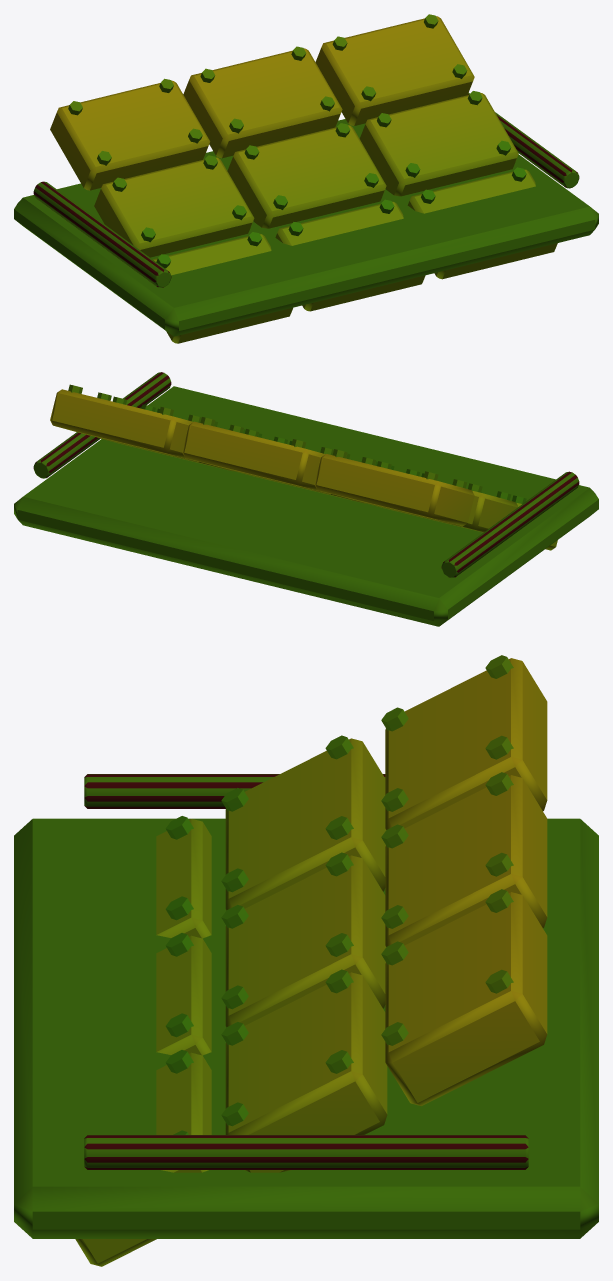
The model's file is RCLModule_heavy_artillery_martian_iron_rust.fbx.
3 views of the same model, one above another, from view 1: azimuth 30°, elevation 25°; view 2: azimuth 150°, elevation 25°; view 3: azimuth 270°, elevation 25° (orthographic). The views are drawn at different scales.
Visible parts, largest first — view 1: RCLModule_heavy_artillery_martian_iron_rust_Batch_RCLModuleM (×2); view 2: RCLModule_heavy_artillery_martian_iron_rust_Batch_RCLModuleM (×2); view 3: RCLModule_heavy_artillery_martian_iron_rust_Batch_RCLModuleM (×2).
Part boxes in pixels (x1,y1,x2,y2): RCLModule_heavy_artillery_martian_iron_rust_Batch_RCLModuleM (×2): [14, 14, 598, 343]; RCLModule_heavy_artillery_martian_iron_rust_Batch_RCLModuleM (×2): [14, 372, 598, 626]; RCLModule_heavy_artillery_martian_iron_rust_Batch_RCLModuleM (×2): [14, 655, 598, 1266].
Bounding box in the file's own units: 87 × 30.24 × 56.
